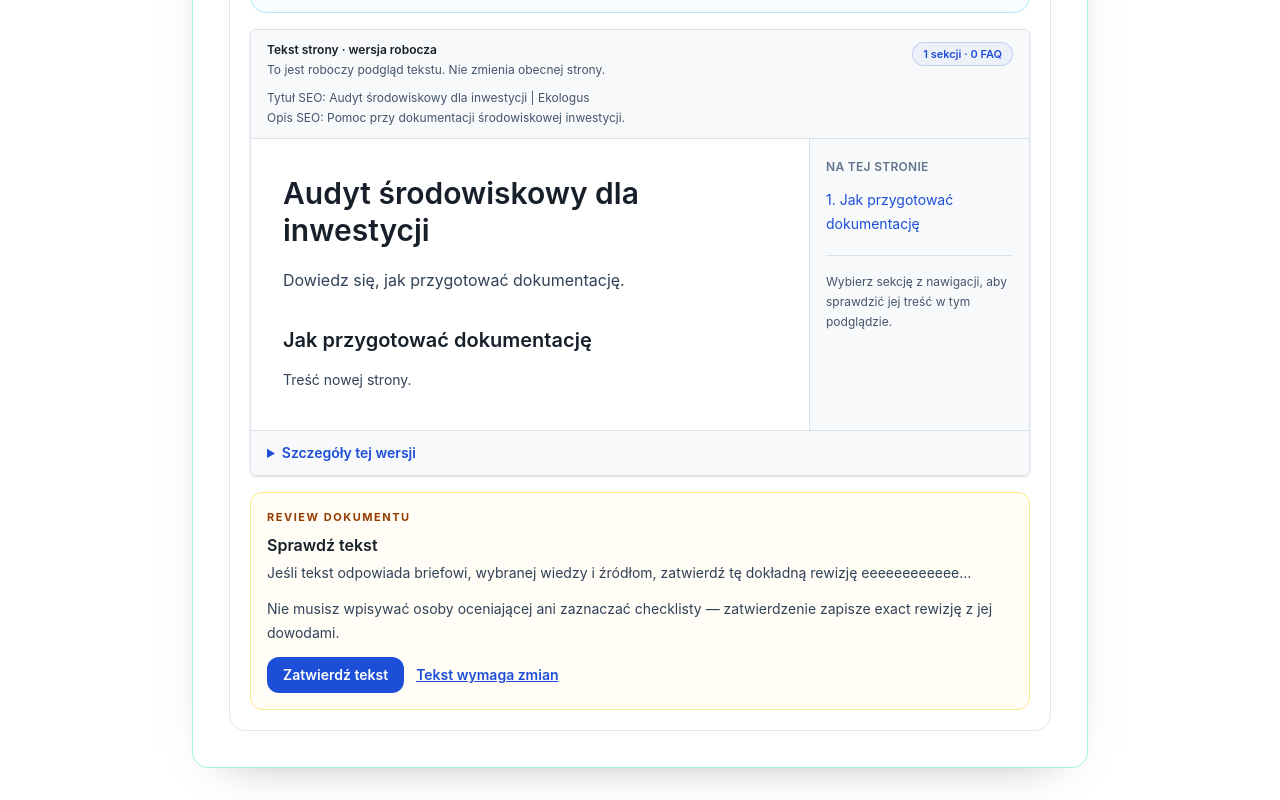
ContentWorkflowEntryPanel › treats a blocked review prerequisite as unsaved without refreshing the document
(page scrolled)
Check: the element with test id "new-page-revision-review" is shown, box [250,492,1030,710]
Click the button "Zatwierdź tekst": {"x": 336, "y": 675} [267,657,404,693]
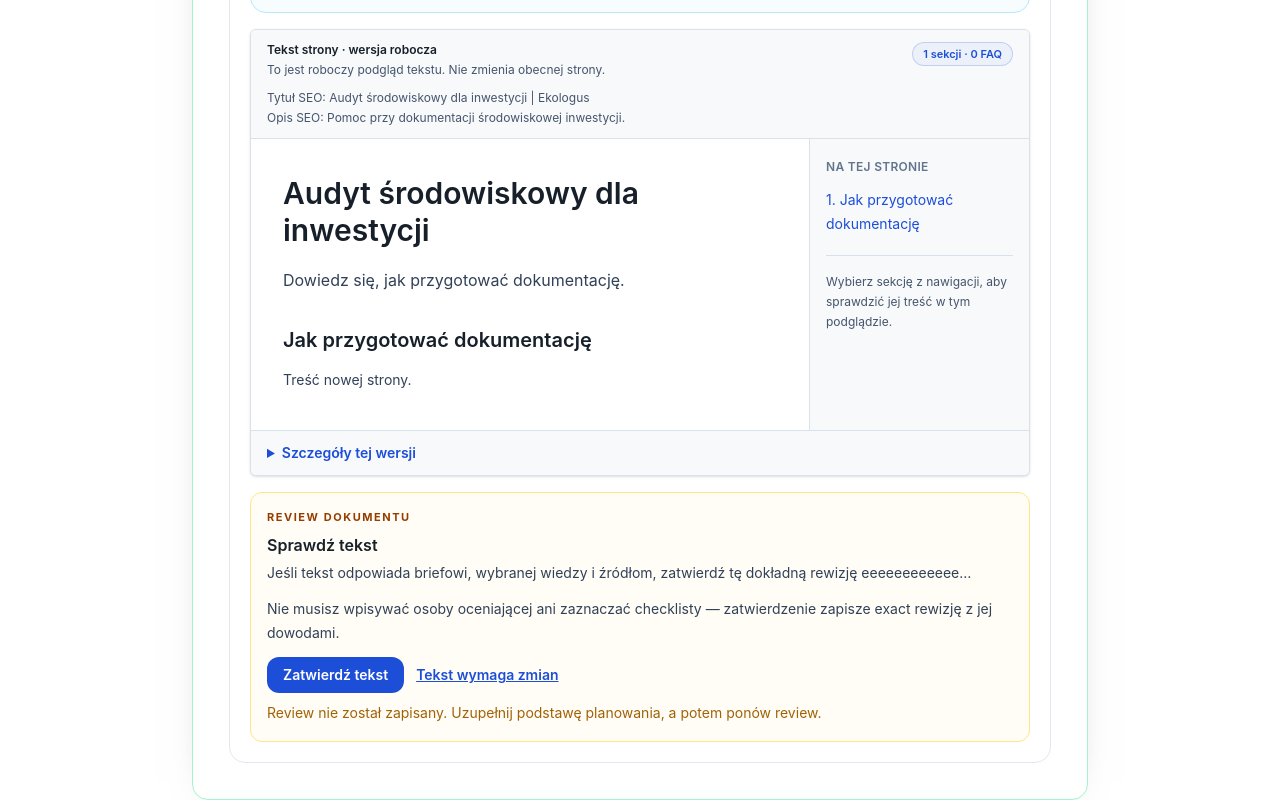
Check: the text "Uzupełnij podstawę planowania, a potem ponów review." is shown, box [451,704,822,721]
